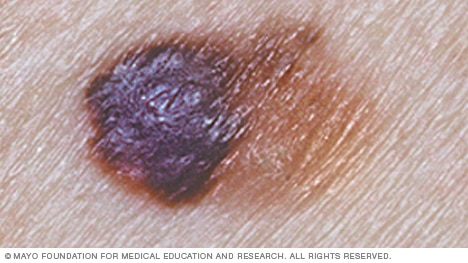melanoma: (45, 33, 343, 220)
